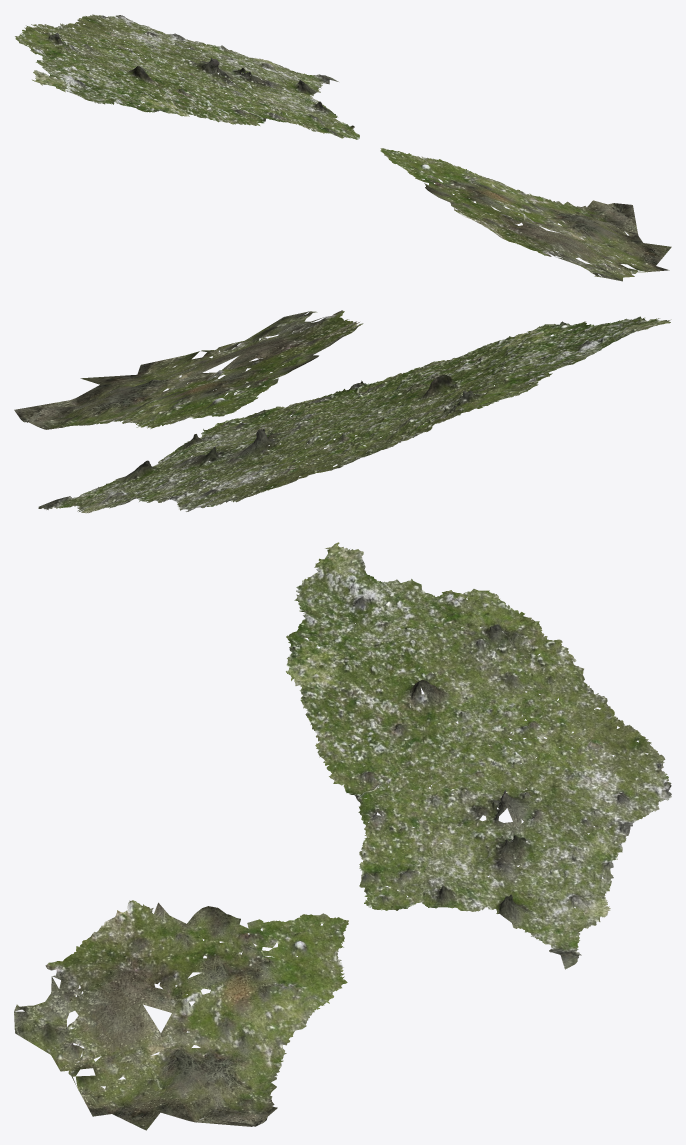
The picture shows the model from 3 angles, top to bottom: view 1: azimuth 30°, elevation 25°; view 2: azimuth 150°, elevation 25°; view 3: azimuth 270°, elevation 25°; orthographic projection. The views are drawn at different scales.
Size of the model in its own units: 63.83 by 26.34 by 56.28.
Materials: 1 (1 with a texture image).
